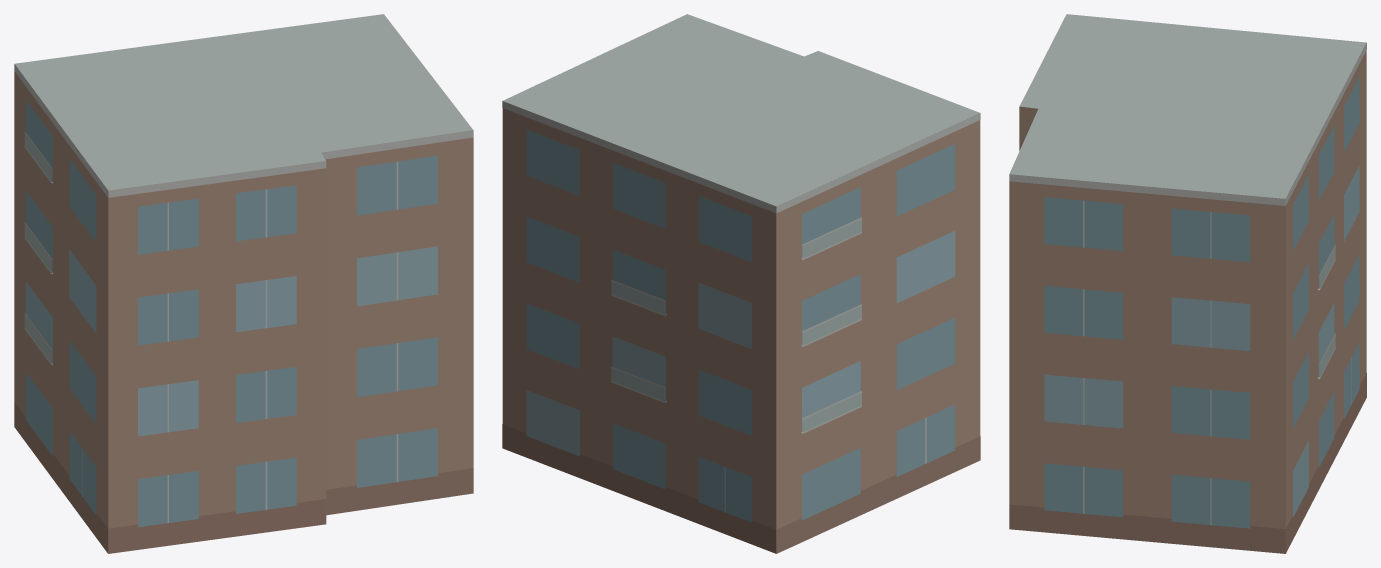
Rendered from survey-upis-32654741.glb.
The picture shows the model from 3 angles, left to right: view 1: azimuth 30°, elevation 25°; view 2: azimuth 150°, elevation 25°; view 3: azimuth 270°, elevation 25°; orthographic projection. The views are drawn at different scales.
Visible parts, largest first — view 1: survey-upis-32654741.tmp; view 2: survey-upis-32654741.tmp; view 3: survey-upis-32654741.tmp.
Part boxes in pixels (x1,y1,x2,y2): survey-upis-32654741.tmp: (14, 14, 473, 553); survey-upis-32654741.tmp: (502, 14, 980, 553); survey-upis-32654741.tmp: (1009, 14, 1366, 553).
Bounding box in the file's own units: 13.64 × 12.2 × 11.15.
